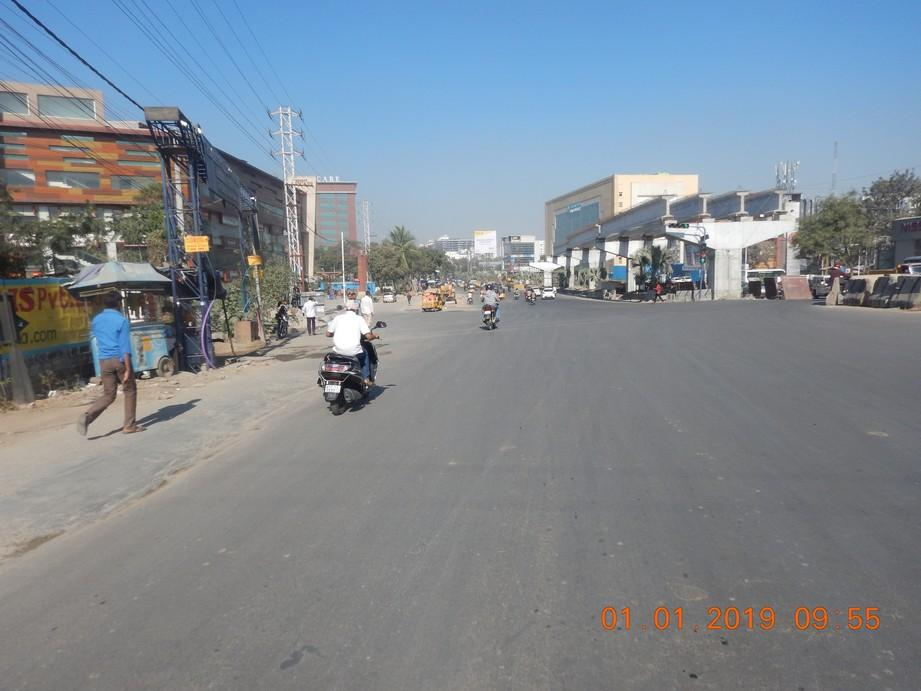plate: (323, 383, 342, 395)
